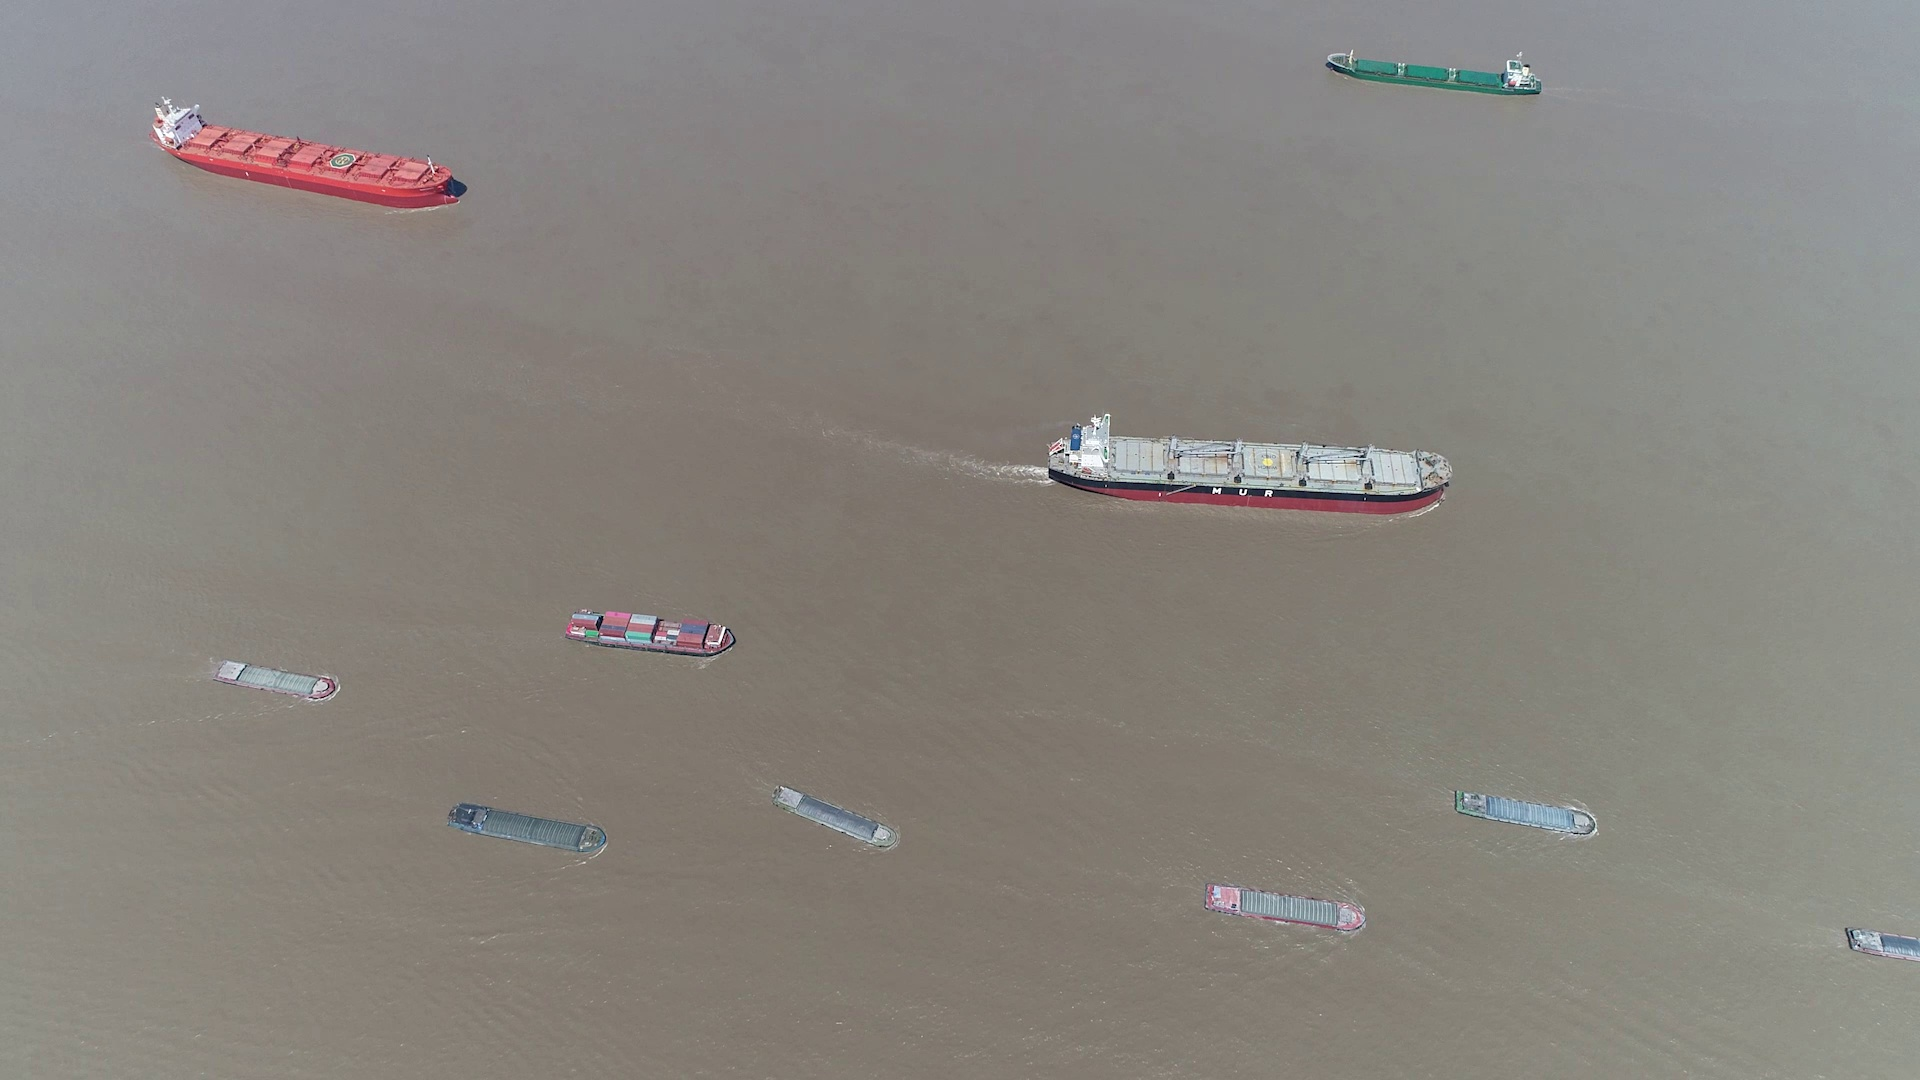ship: (1051, 419, 1451, 512), (153, 98, 459, 206), (1324, 49, 1543, 96), (451, 803, 609, 856), (1203, 884, 1367, 934), (563, 609, 736, 655), (775, 787, 895, 851), (1455, 790, 1600, 837), (212, 659, 339, 702), (1842, 927, 1920, 964)
